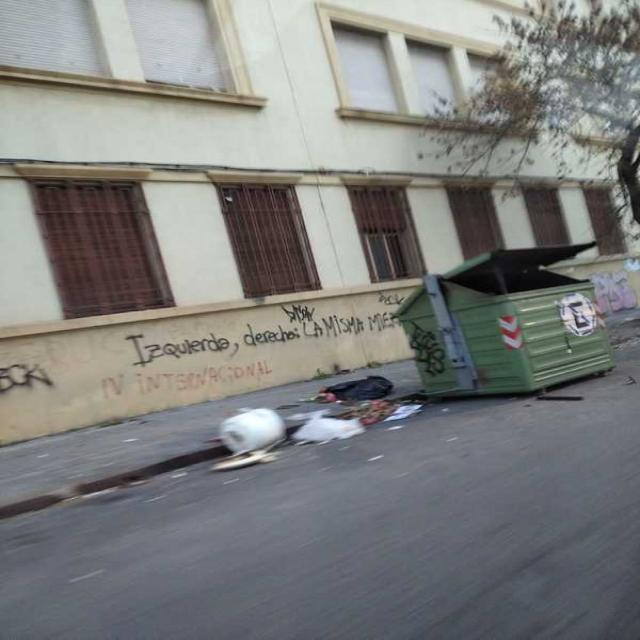garbage: (266, 410, 410, 450), (220, 392, 285, 465), (311, 370, 408, 398), (527, 390, 587, 408)
